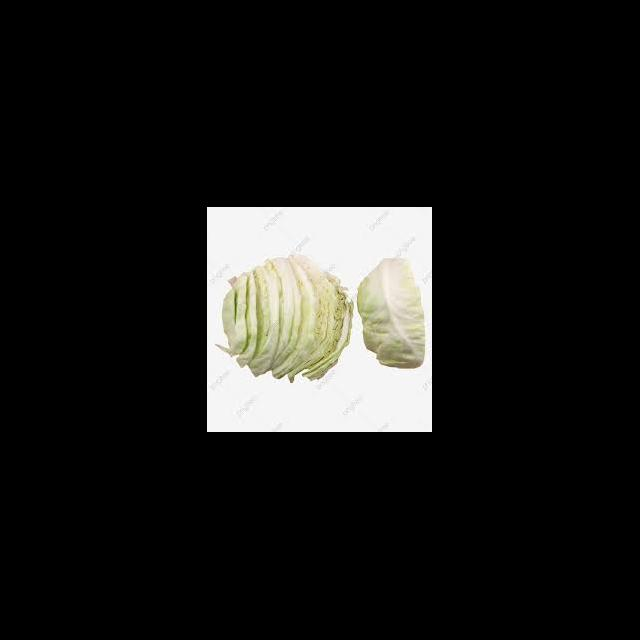cabbage: (217, 245, 355, 383), (348, 246, 428, 391)
